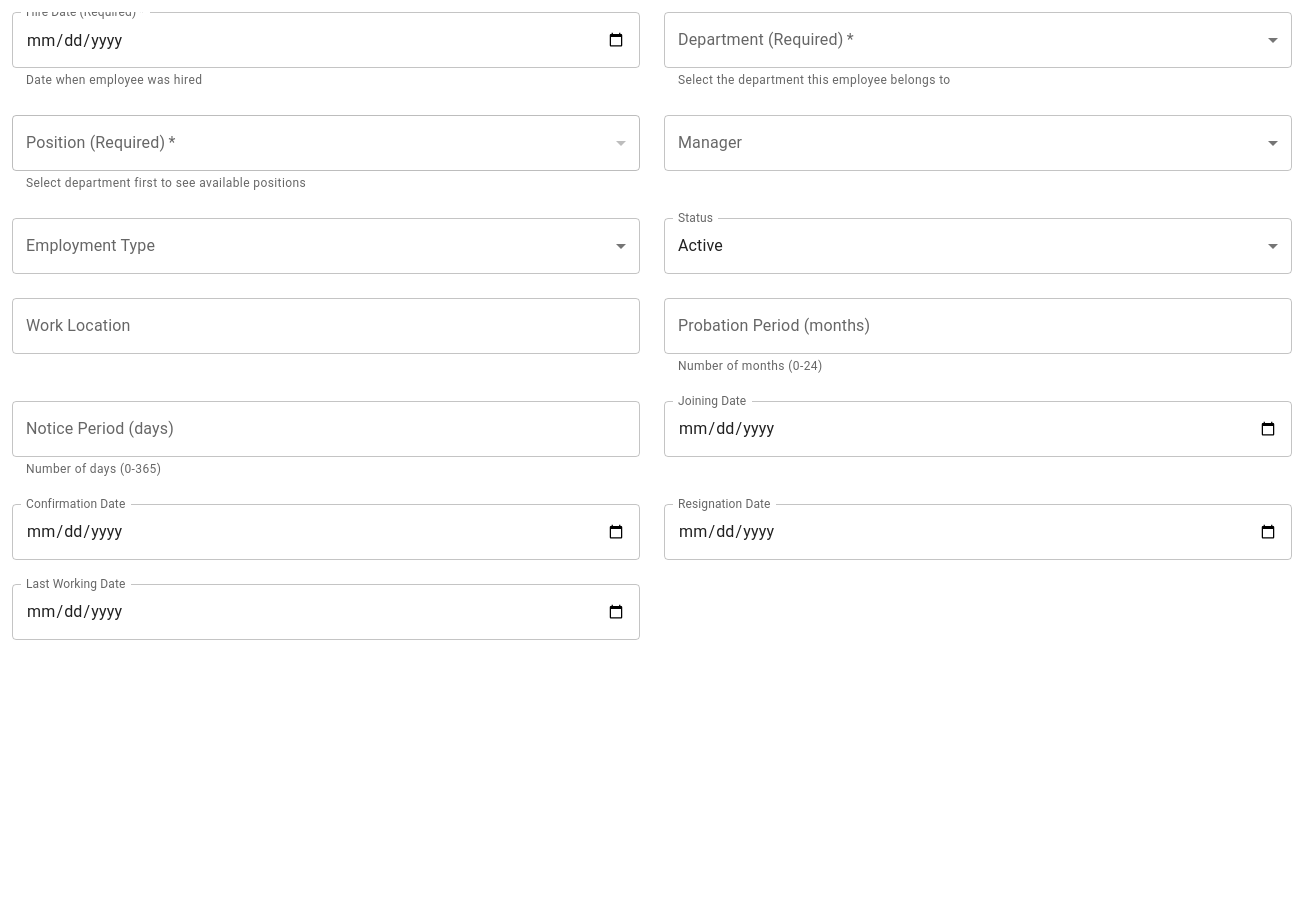
Test: EmploymentInformationTab › Department Select › should list all departments
Press the mouse on the dropdown with id "departmentId" at (978,40), box left=664, top=12, right=1292, bottom=68
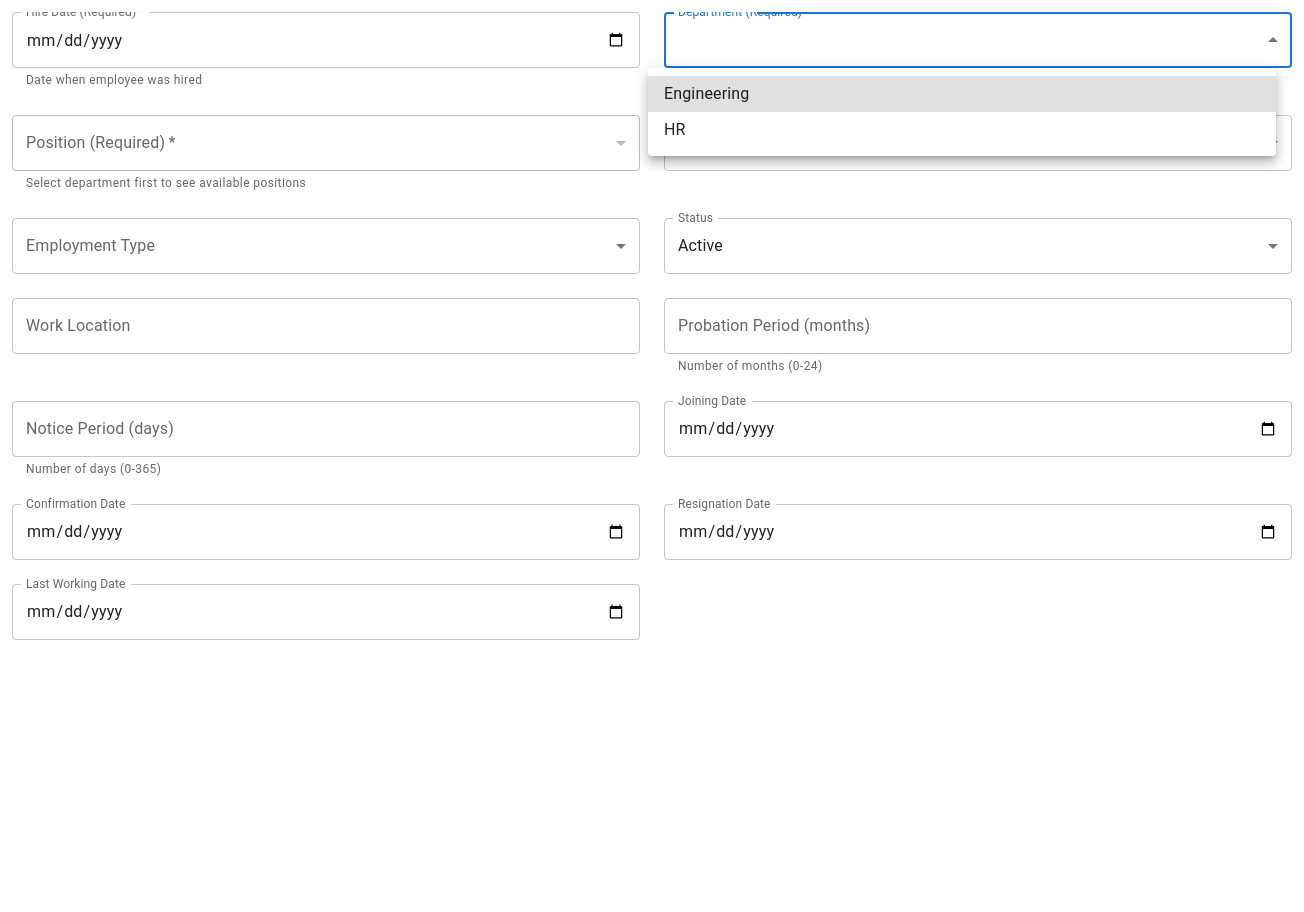
Expected: the option "Engineering" is shown, left=648, top=76, right=1276, bottom=112
Expected: the option "HR" is shown, left=664, top=120, right=686, bottom=139
